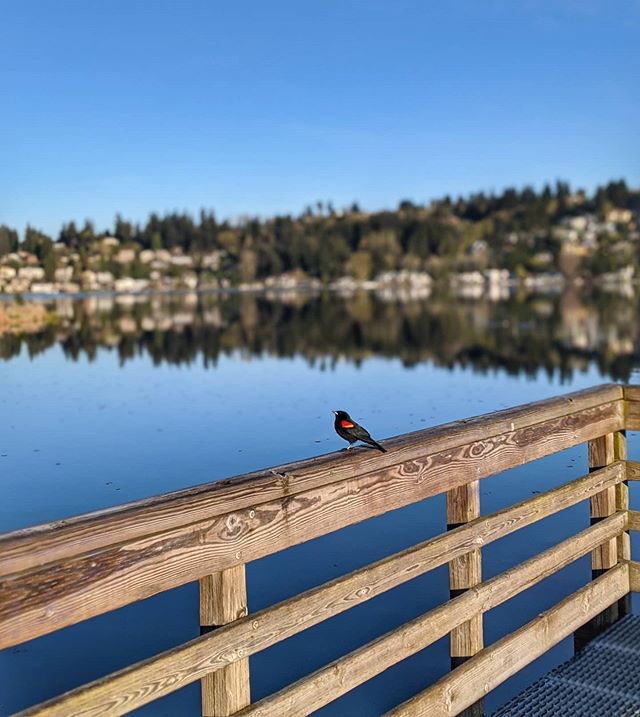animal: (330, 407, 380, 454)
river: (1, 295, 611, 693)
sky: (9, 1, 640, 208)
